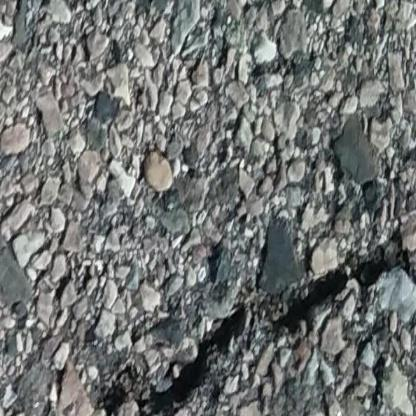Cracks: (55, 217, 416, 416)
